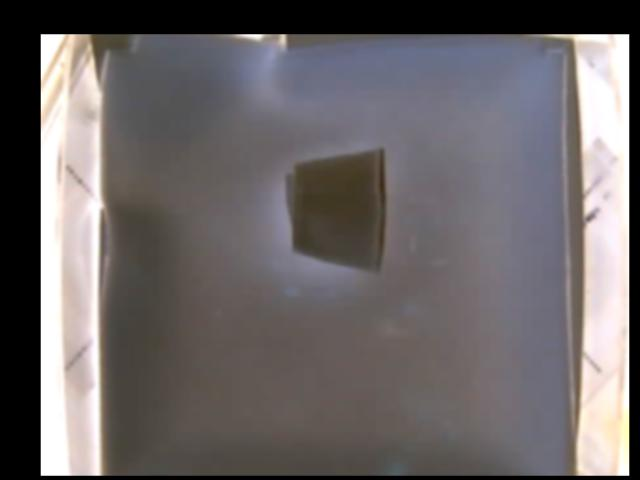Cup: (287, 144, 388, 272)
